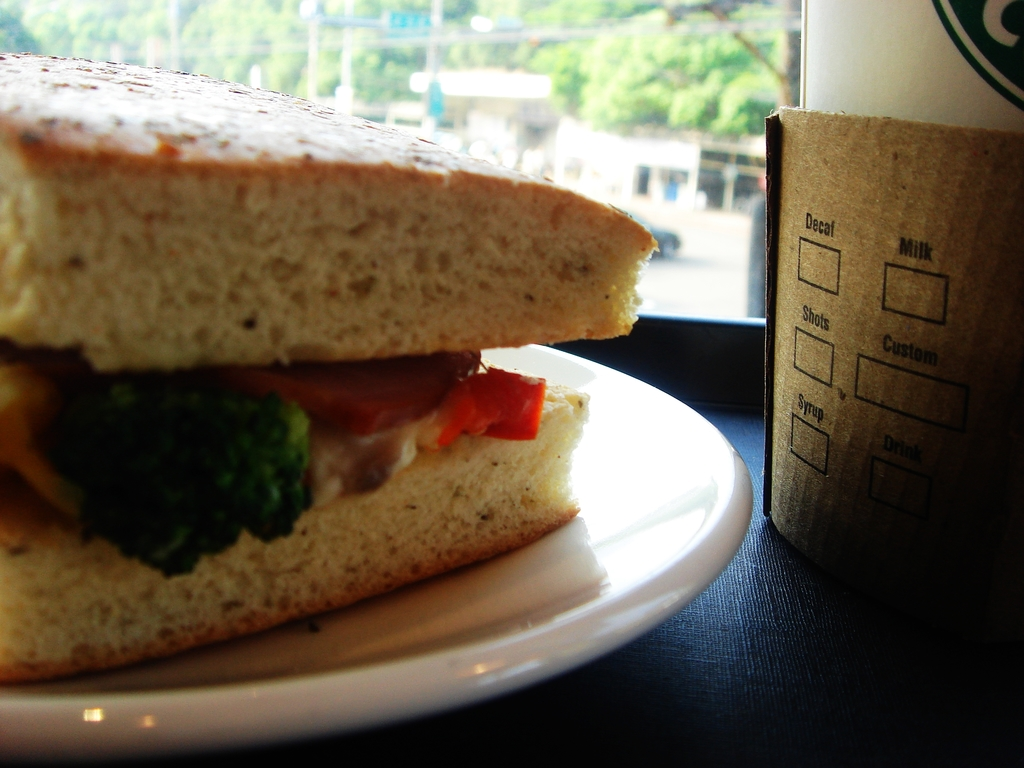sandwich: (0, 53, 664, 687)
